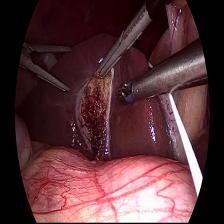Bipolar: (113, 74, 137, 109)
Grasper: (89, 7, 152, 86), (16, 32, 75, 102)
